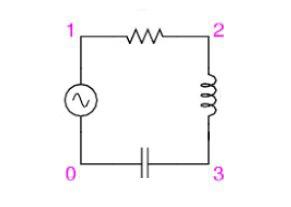resistor: (120, 17, 173, 48)
